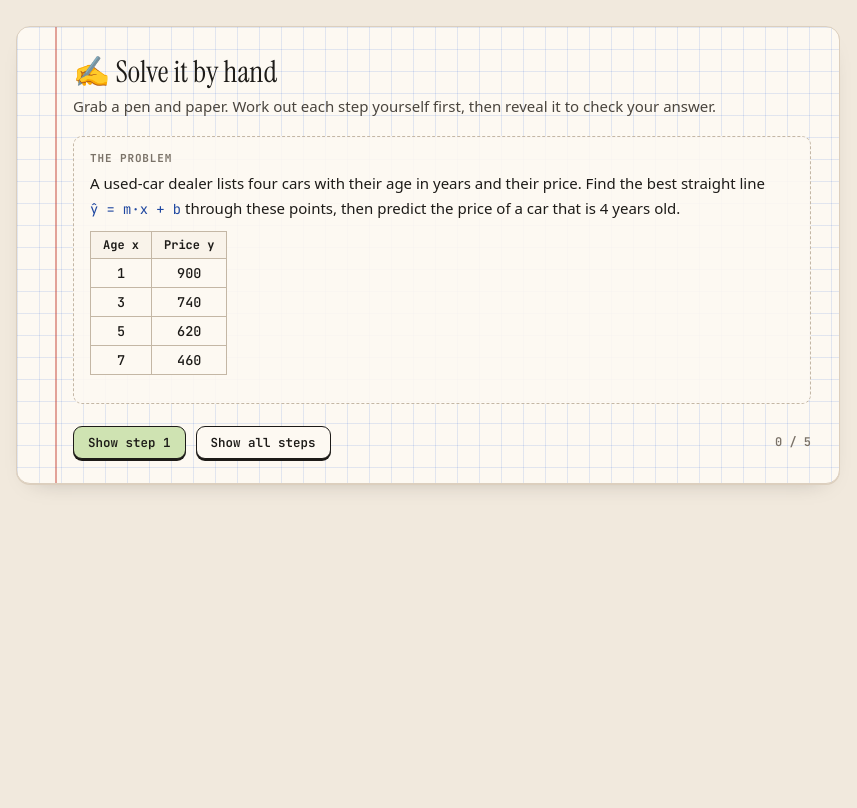
Test case: ByHand › starts over
Click the button "Show all steps" at (263, 442), box [196,426,330,459]
(page scrolled)
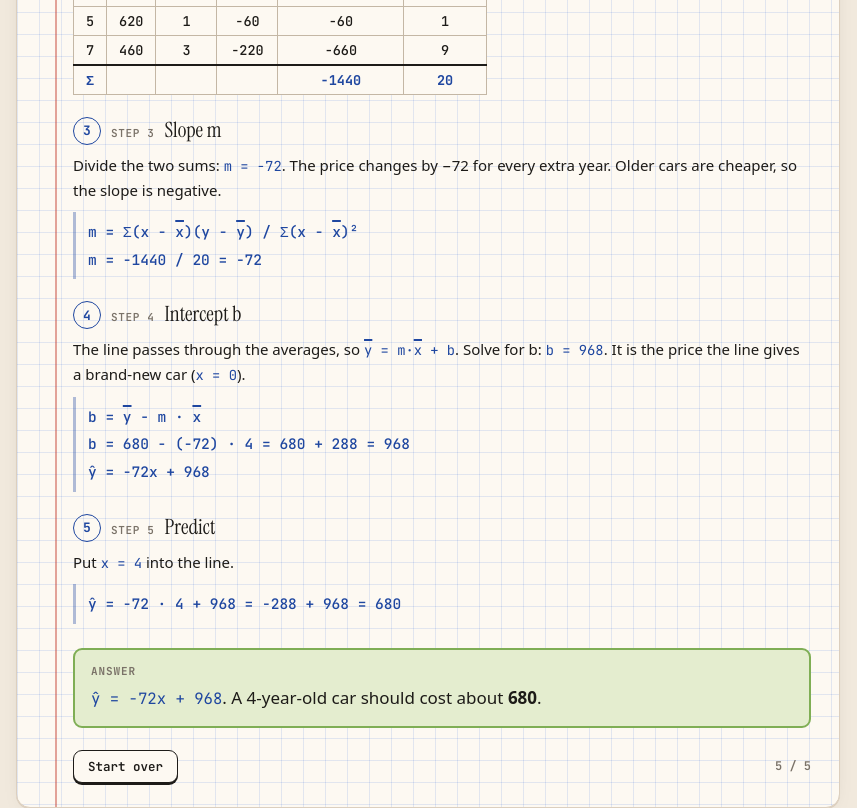
Click the button "Start over" at (126, 766), box [73,750,178,783]
(page scrolled)
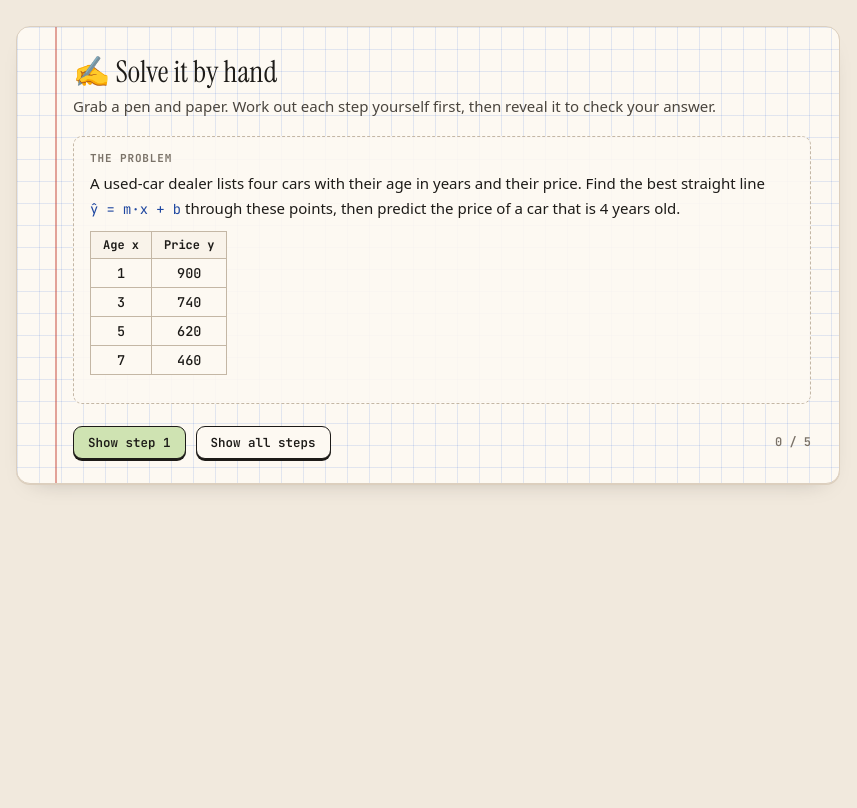
Now no list items are shown
